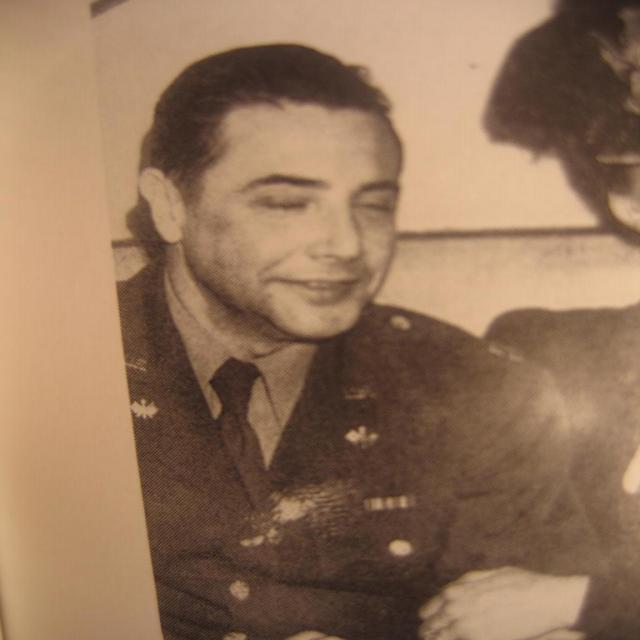closed-mouth: (272, 272, 364, 310)
